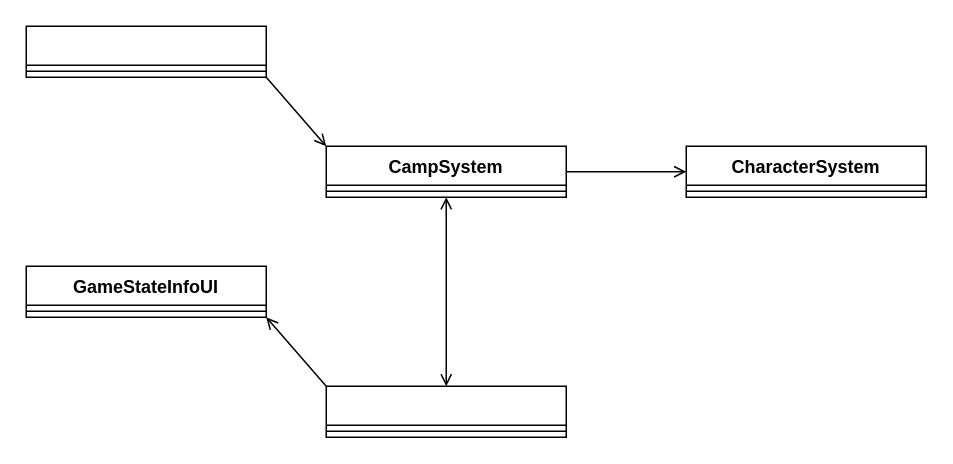
Image size: 953x464. Some labels were removed from this diagram. Each missing label, with the centre of its shape:
APSystem: point 445,411
CampInfoUI: point 145,51
